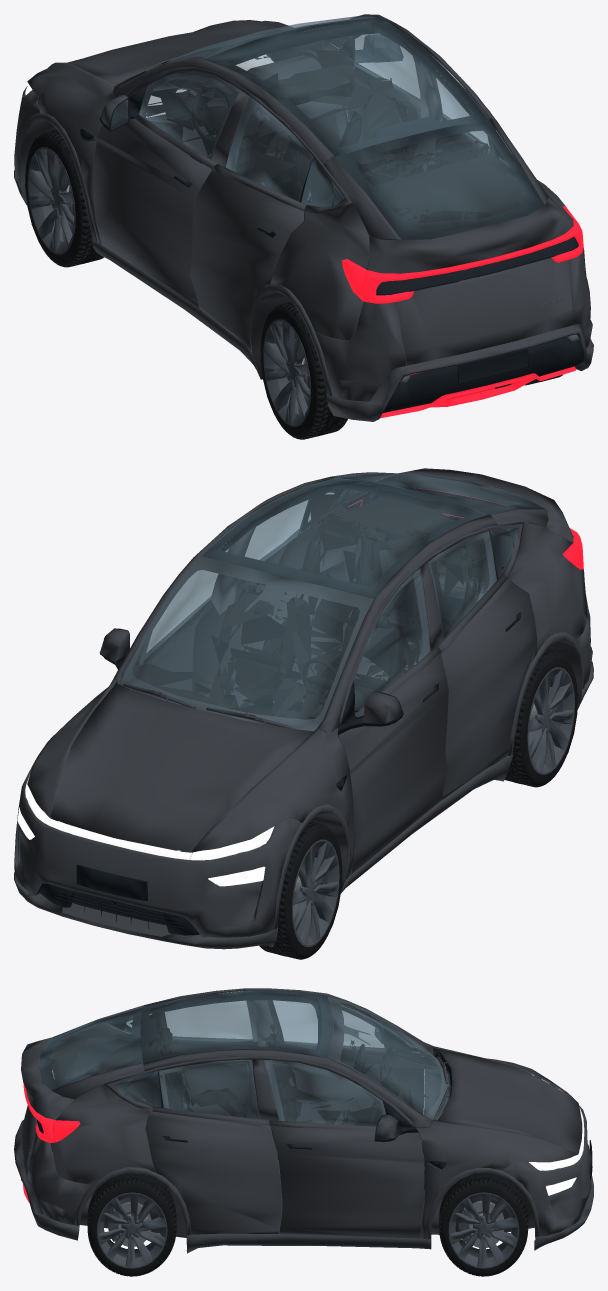
File: suv_near.glb
The picture shows the model from 3 angles, top to bottom: view 1: azimuth 30°, elevation 25°; view 2: azimuth 150°, elevation 25°; view 3: azimuth 270°, elevation 25°; orthographic projection. The views are drawn at different scales.
Visible parts, largest first — view 1: Paint, Glazing, Interior, Trim, RollingSurface, RollingSurface.002, Taillight; view 2: Paint, Glazing, Interior, Trim, RollingSurface.002, RollingSurface, Headlight; view 3: Paint, Glazing, Interior, Trim, RollingSurface.003, RollingSurface.001, Taillight, Headlight.
Boxes of the visible parts, box(x1,y1,x2,y2) form: Paint: box(14, 14, 593, 421); Glazing: box(110, 15, 543, 239); Interior: box(132, 48, 520, 269); Trim: box(80, 17, 584, 412); RollingSurface: box(260, 301, 579, 439); RollingSurface.002: box(25, 129, 104, 267); Taillight: box(341, 206, 583, 418); Paint: box(14, 468, 593, 949); Glazing: box(120, 473, 542, 731); Interior: box(132, 489, 503, 756); Trim: box(36, 473, 573, 935); RollingSurface.002: box(259, 821, 342, 959); RollingSurface: box(504, 649, 577, 787); Headlight: box(17, 775, 274, 886); Paint: box(14, 988, 593, 1253); Glazing: box(39, 990, 450, 1126); Interior: box(51, 1012, 437, 1189); Trim: box(21, 991, 592, 1180); RollingSurface.003: box(439, 1173, 528, 1276); RollingSurface.001: box(27, 1145, 176, 1276); Taillight: box(23, 1083, 80, 1202); Headlight: box(529, 1074, 584, 1195).
Bounding box in the file's own units: 2.03 × 1.9 × 4.63.
